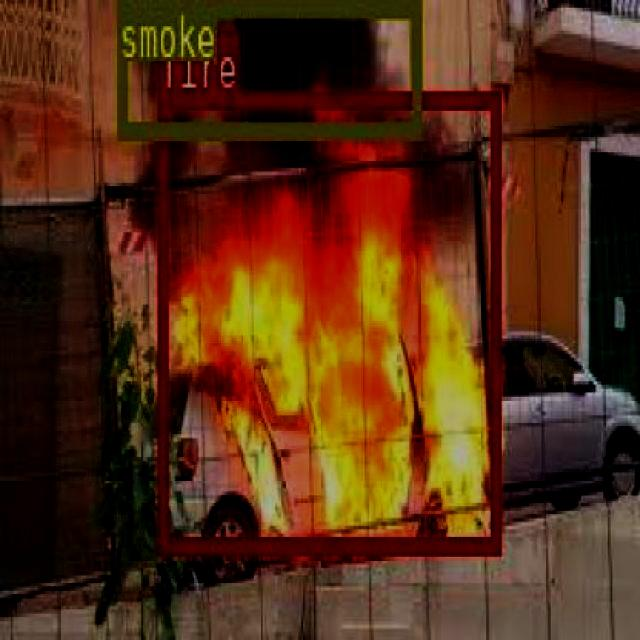fire: (158, 89, 498, 552)
smoke: (114, 0, 420, 134)
